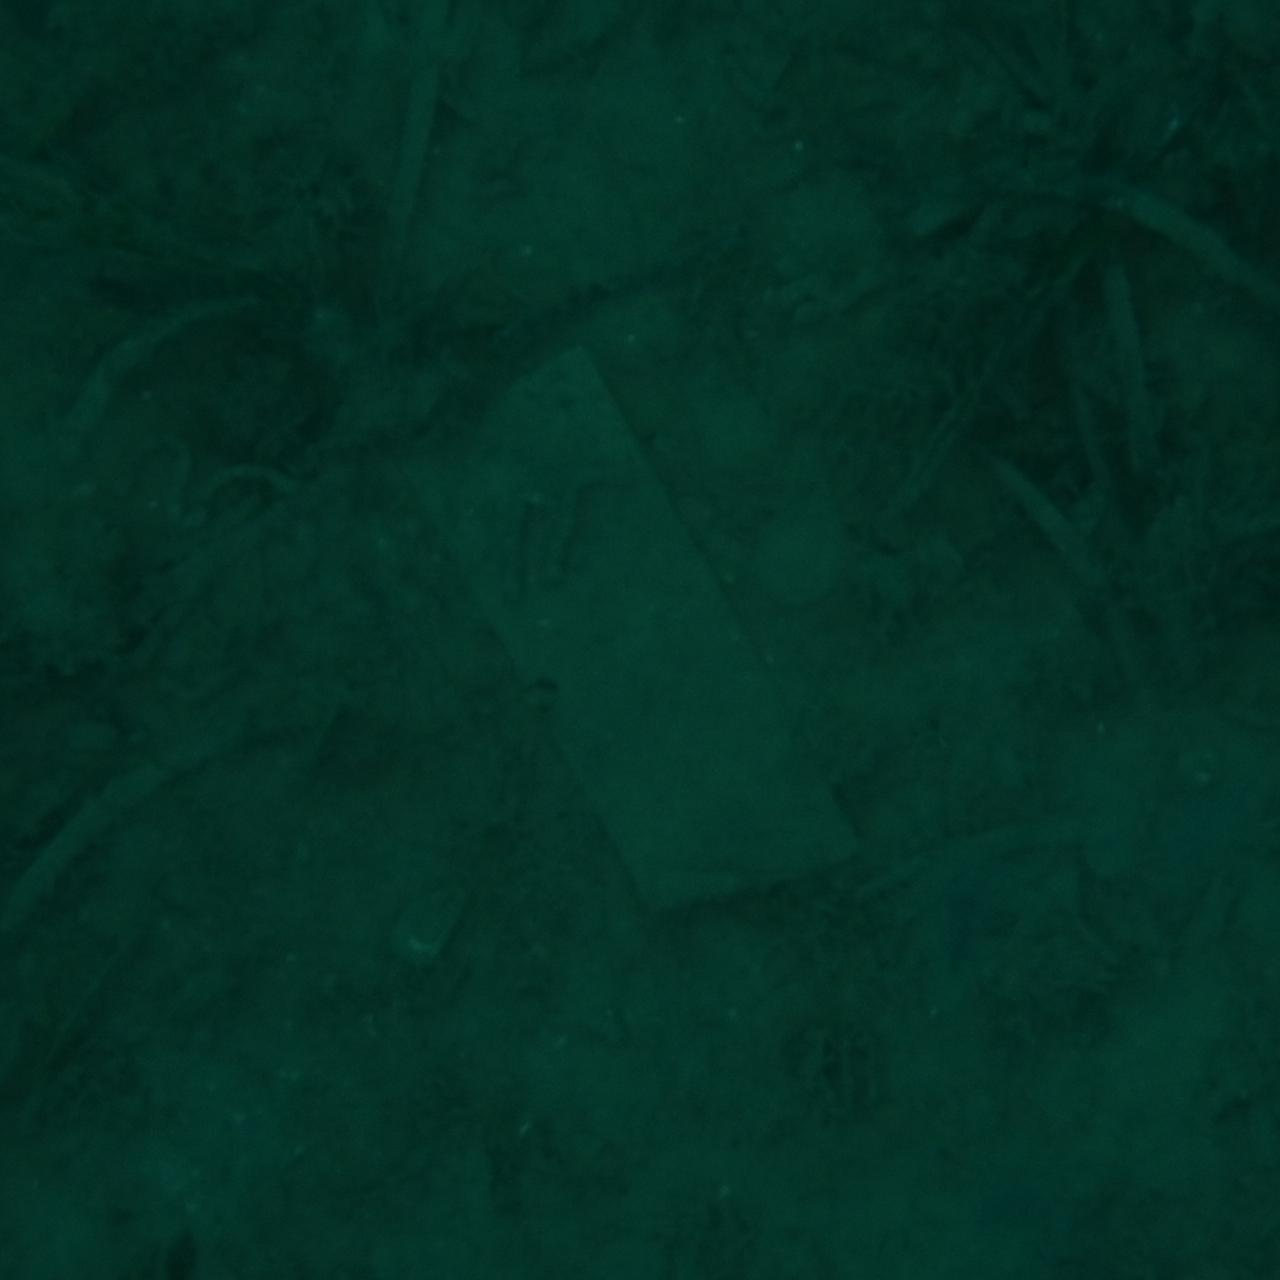Rifiuto: (392, 353, 888, 927)
